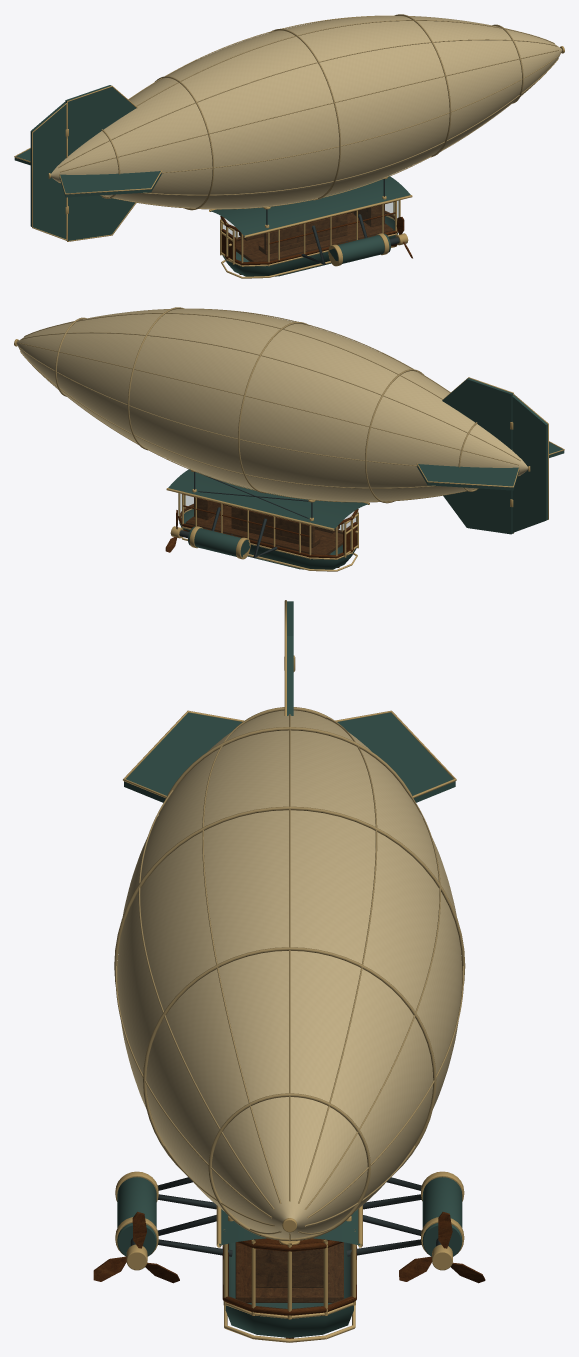
The model's file is airship-v1.glb.
3 renders of one model, top to bottom at view 1: azimuth 30°, elevation 25°; view 2: azimuth 150°, elevation 25°; view 3: azimuth 270°, elevation 25°, orthographic. The views are drawn at different scales.
Visible parts, largest first — view 1: Airship_Hull_Geometry, Airship_Rudder_Geometry; view 2: Airship_Hull_Geometry, Airship_Rudder_Geometry; view 3: Airship_Hull_Geometry, Propeller_Starboard_Geometry, Propeller_Port_Geometry.
Boxes of the visible parts, box(x1,y1,x2,y2) form: Airship_Hull_Geometry: box(14, 14, 564, 278); Airship_Rudder_Geometry: box(30, 102, 67, 240); Airship_Hull_Geometry: box(14, 307, 564, 571); Airship_Rudder_Geometry: box(512, 394, 548, 532); Airship_Hull_Geometry: box(114, 600, 465, 1342); Propeller_Starboard_Geometry: box(93, 1211, 179, 1283); Propeller_Port_Geometry: box(399, 1212, 485, 1283).
Size of the model in its own units: 7.48 by 3.09 by 2.39.
9 materials, 2 textured.
